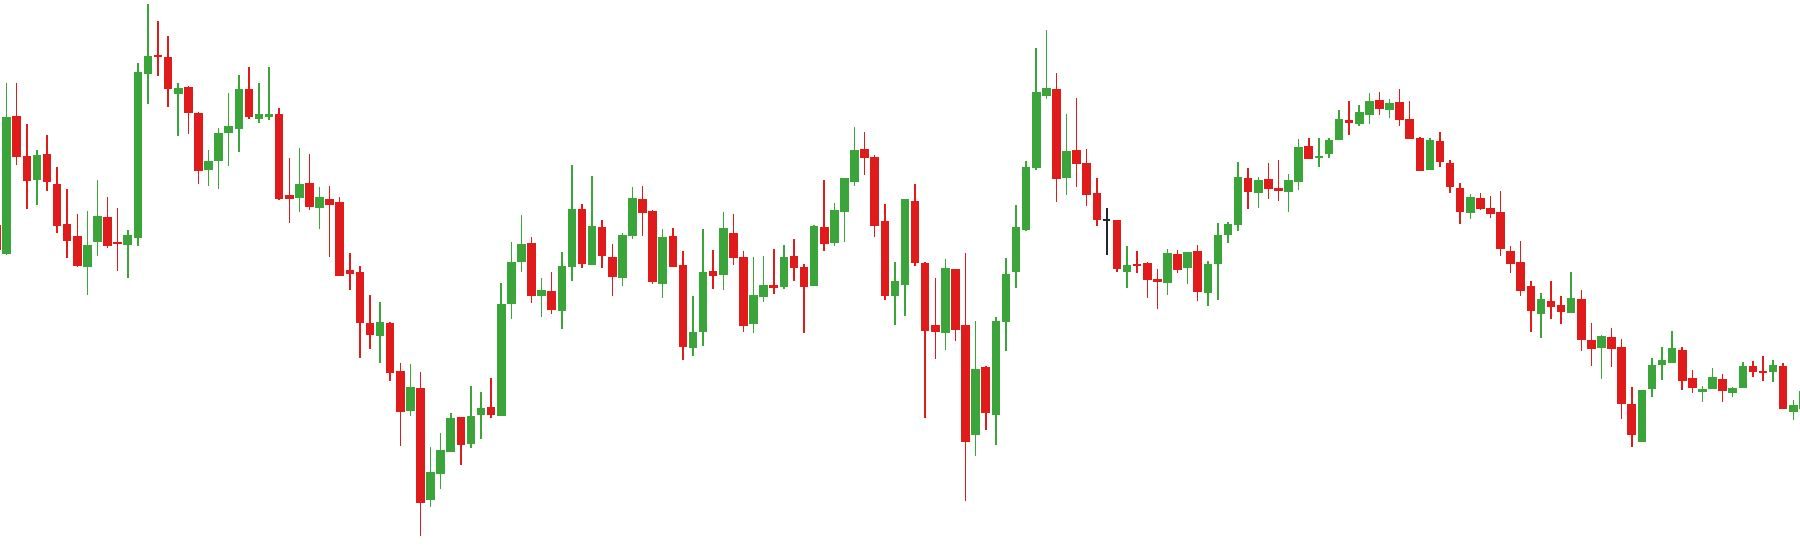buy: (606, 180, 709, 368), (915, 293, 983, 513), (736, 248, 822, 335)
sell: (848, 21, 1062, 286), (3, 8, 174, 190), (517, 158, 587, 293)
